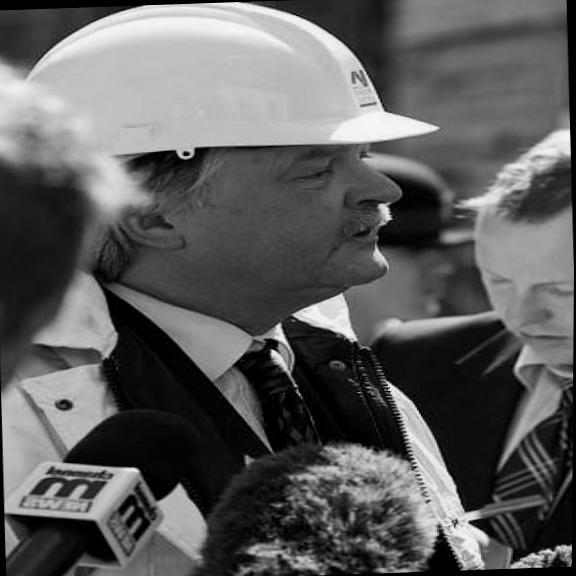safety_vest: (0, 251, 500, 576)
